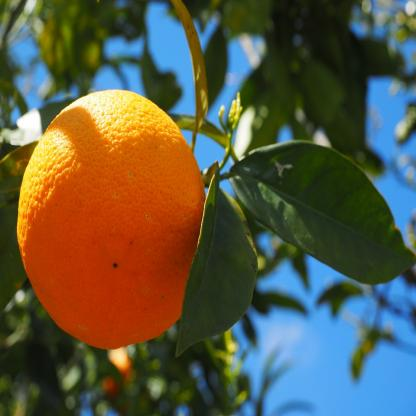orange: (15, 90, 213, 372)
